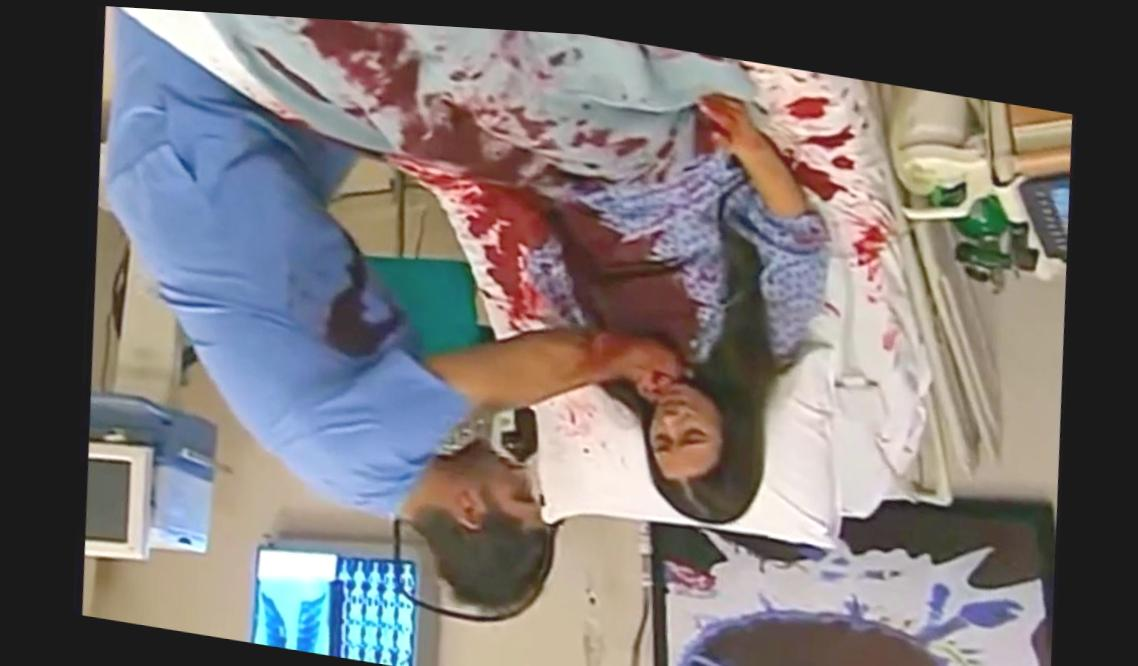Fire: (202, 9, 906, 356), (318, 234, 392, 354), (536, 380, 602, 452)
